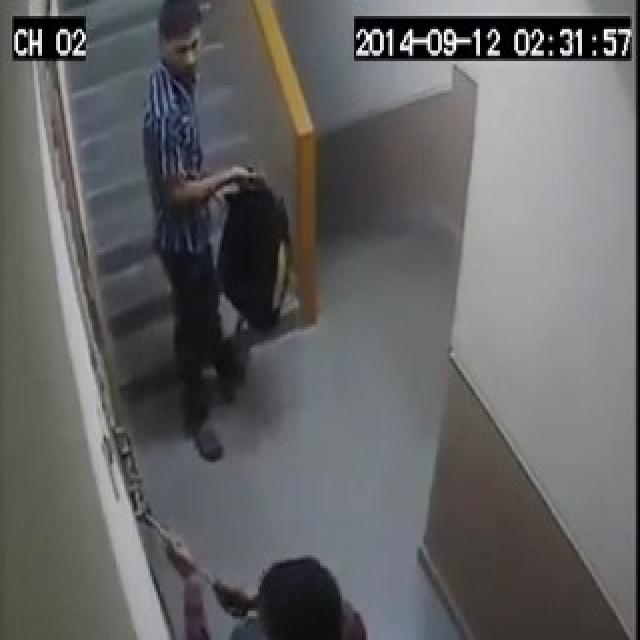burglary: (129, 438, 331, 640)
